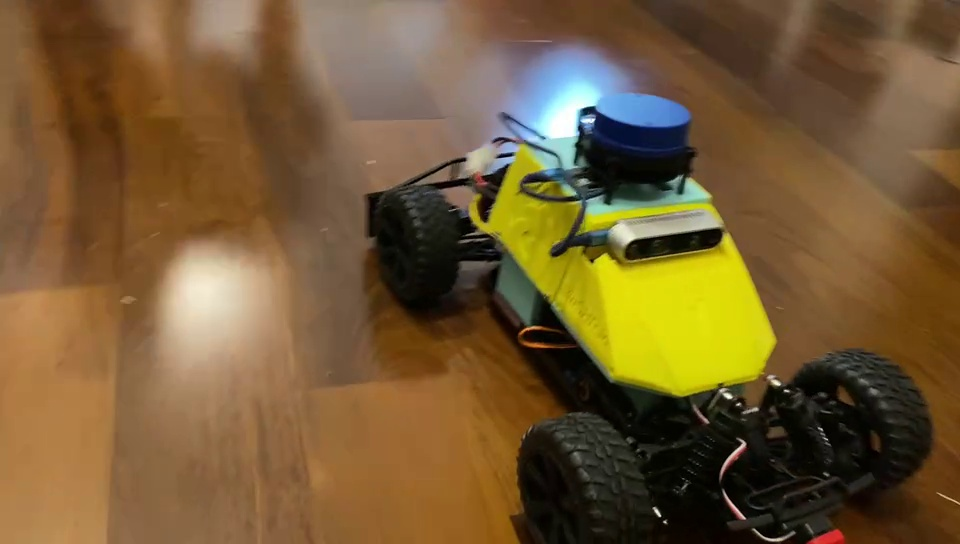mushr_car: (355, 74, 935, 544)
